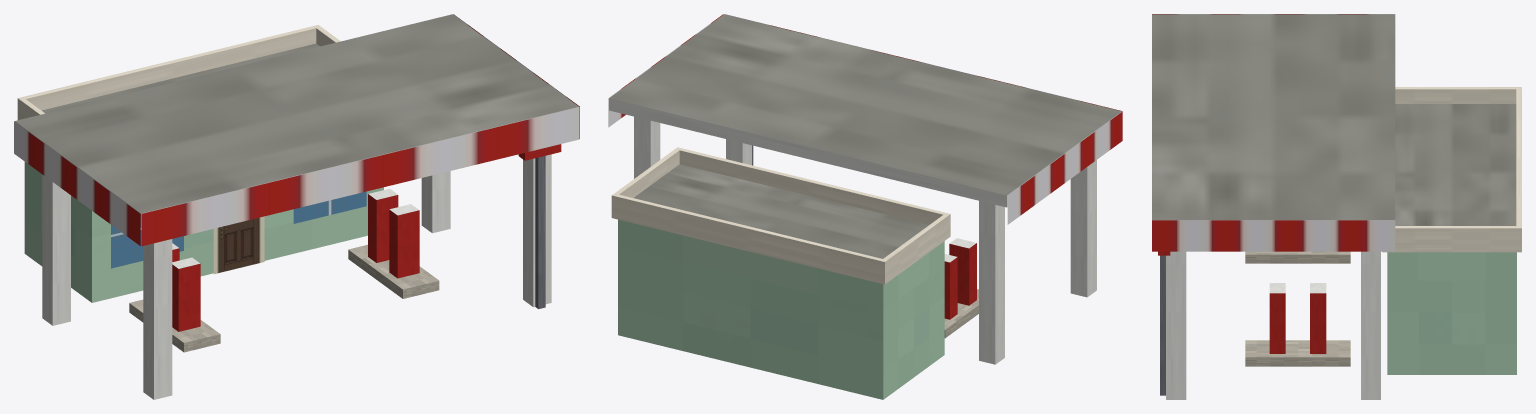
The model's file is filling-mint-far.glb.
3 views of the same model, side by side, from view 1: azimuth 30°, elevation 25°; view 2: azimuth 150°, elevation 25°; view 3: azimuth 270°, elevation 25° (orthographic). The views are drawn at different scales.
Visible parts, largest first — view 1: filling-mint-far; view 2: filling-mint-far; view 3: filling-mint-far.
Part boxes in pixels (<box>): filling-mint-far: <box>14,14,579,399</box>; filling-mint-far: <box>608,14,1122,399</box>; filling-mint-far: <box>1152,14,1521,399</box>.
Size of the model in its own units: 12.04 by 5.15 by 9.14.
1 material, 1 textured.
